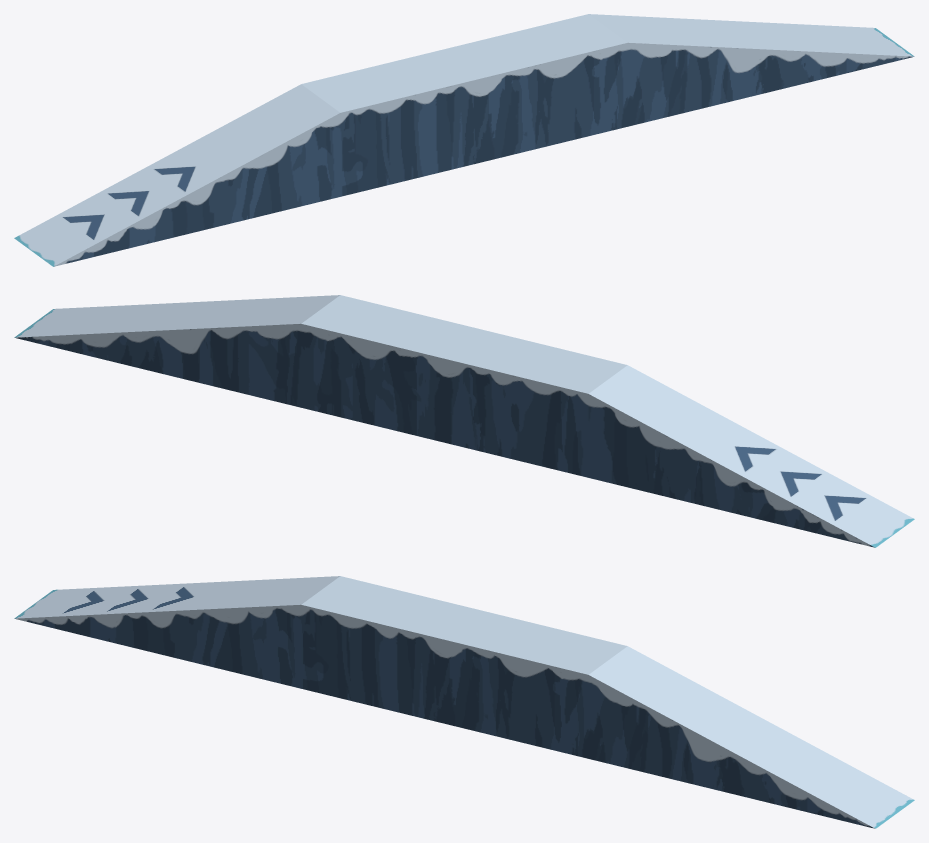
The model's file is ramp_03.glb.
The picture shows the model from 3 angles, top to bottom: view 1: azimuth 30°, elevation 25°; view 2: azimuth 150°, elevation 25°; view 3: azimuth 330°, elevation 25°; orthographic projection.
Visible parts, largest first — view 1: Ramp 03; view 2: Ramp 03; view 3: Ramp 03.
Boxes of the visible parts, x1,y1,x2,y2 form: Ramp 03: [14, 14, 914, 266]; Ramp 03: [14, 295, 914, 547]; Ramp 03: [14, 576, 914, 828].
Size of the model in its own units: 75 by 6.99 by 5.92.
1 material, 1 textured.
